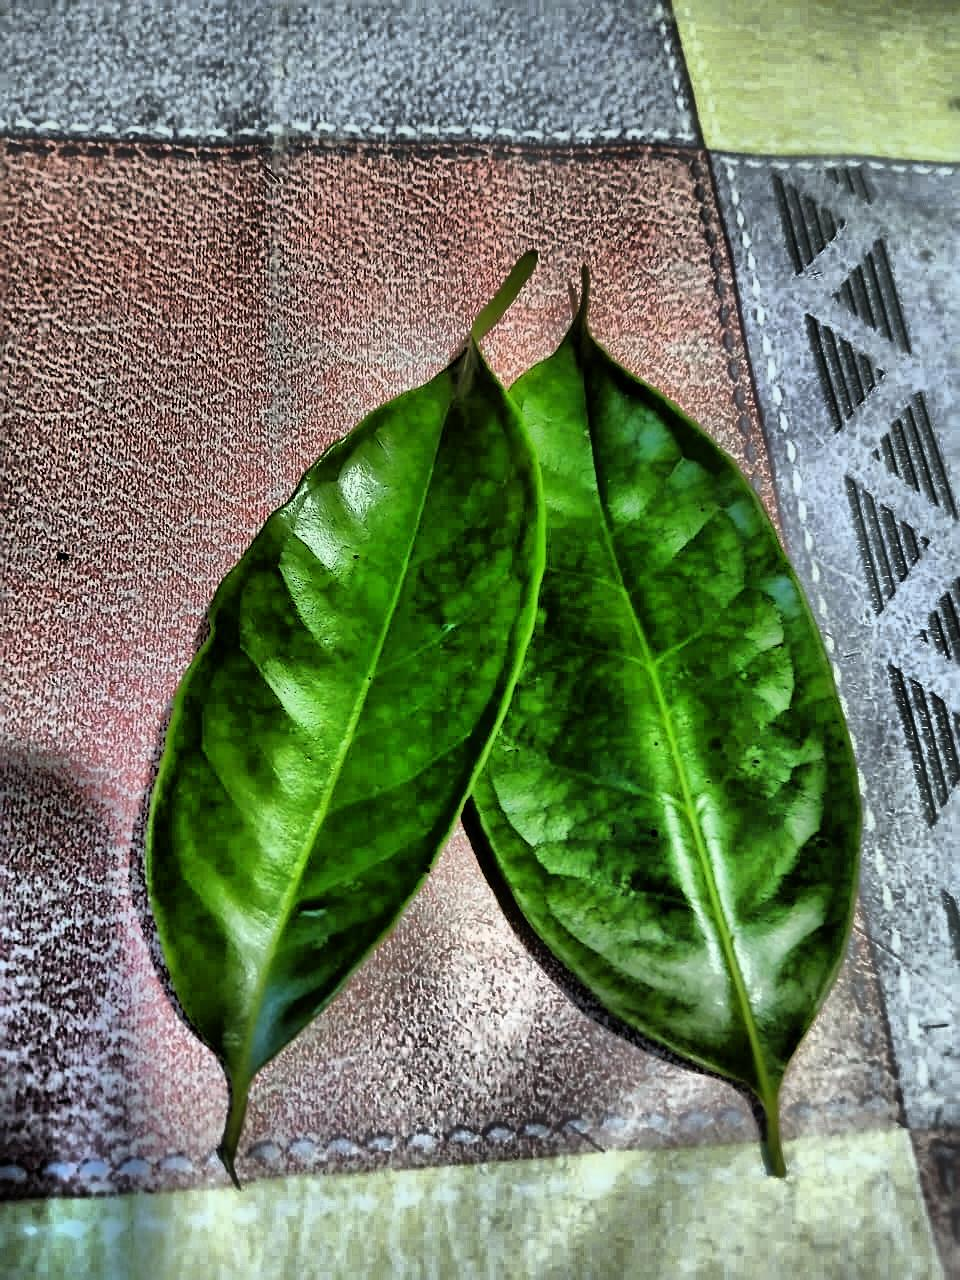daun salam: (148, 255, 859, 1174)
